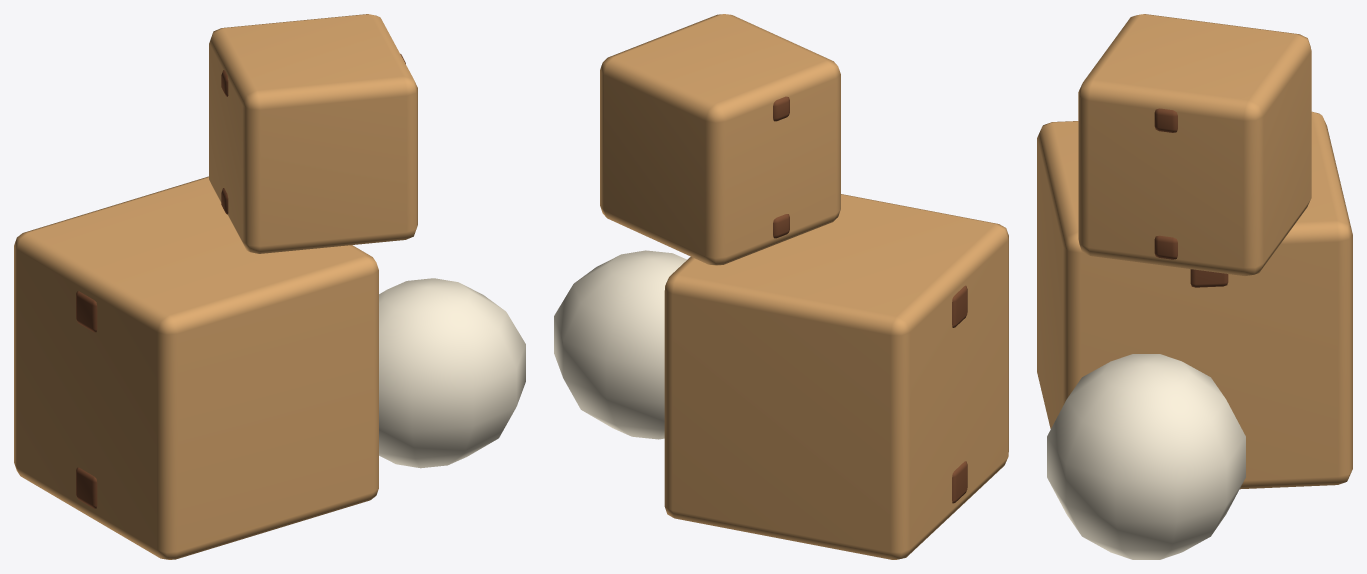
The model's file is faire_crates.glb.
The picture shows the model from 3 angles, left to right: view 1: azimuth 30°, elevation 25°; view 2: azimuth 150°, elevation 25°; view 3: azimuth 270°, elevation 25°; orthographic projection. The views are drawn at different scales.
Visible parts, largest first — view 1: Crates; view 2: Crates; view 3: Crates.
Boxes of the visible parts, box(x1,y1,x2,y2) form: Crates: box(14, 14, 525, 559); Crates: box(554, 14, 1008, 559); Crates: box(1037, 14, 1352, 559).
Size of the model in its own units: 1.61 by 1.51 by 0.9754.
